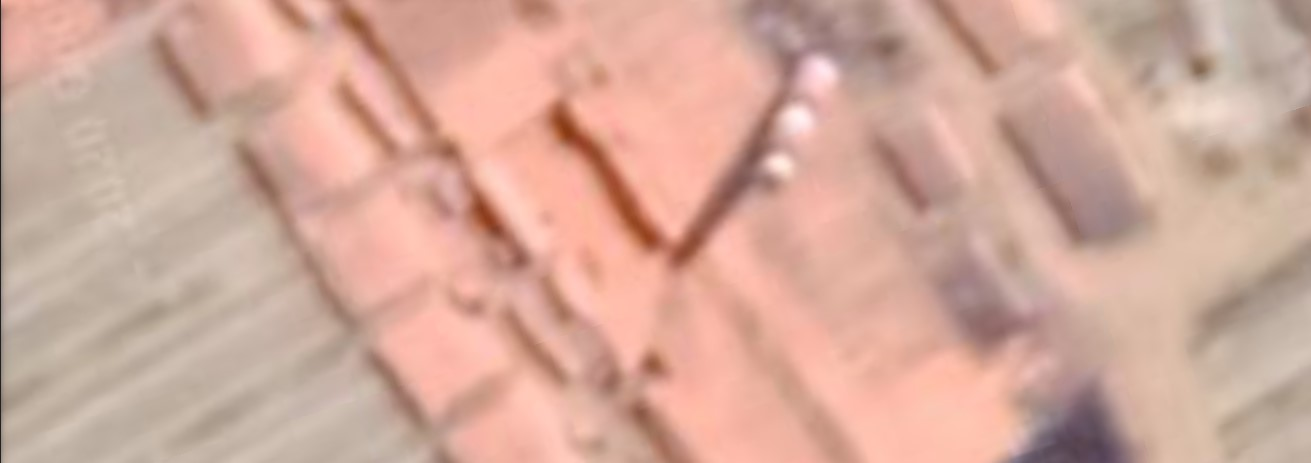kiln: (543, 7, 900, 429)
